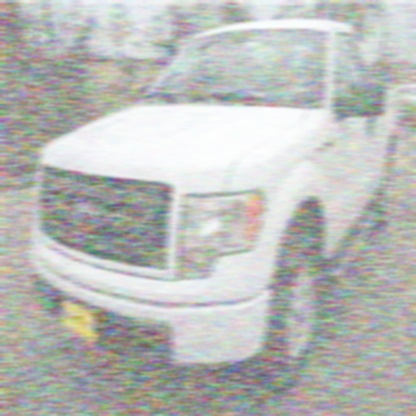Vehicle: (30, 19, 399, 390)
